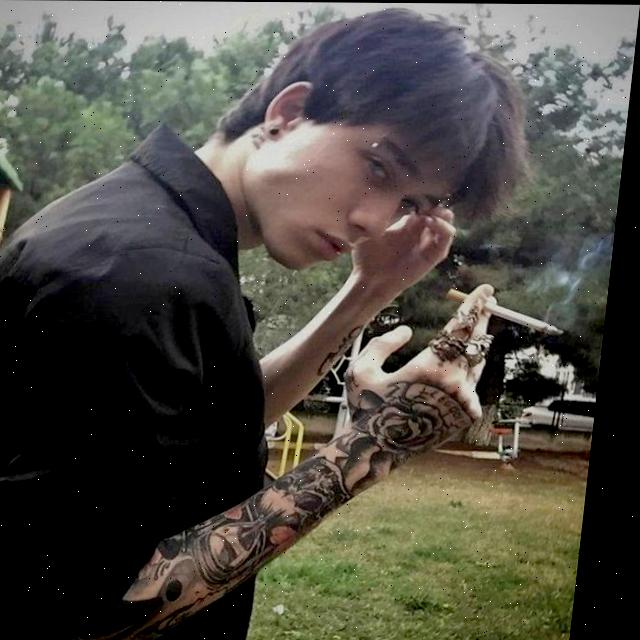cigarette: (452, 286, 577, 334)
